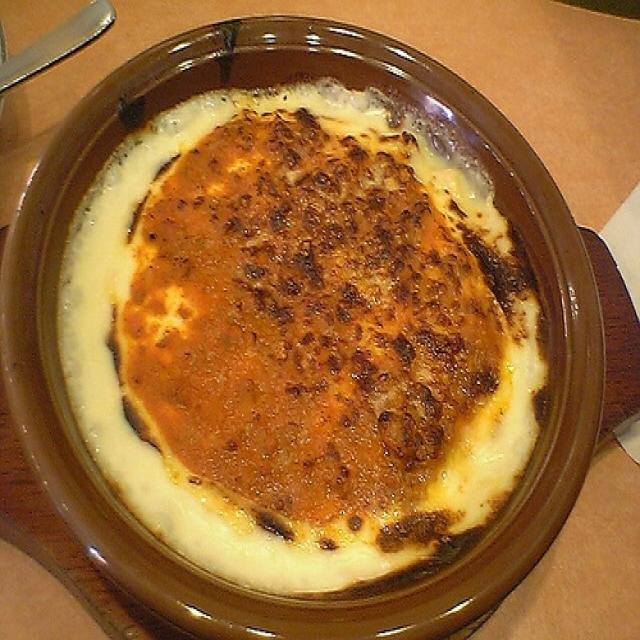米饭主食: (45, 43, 545, 585)
